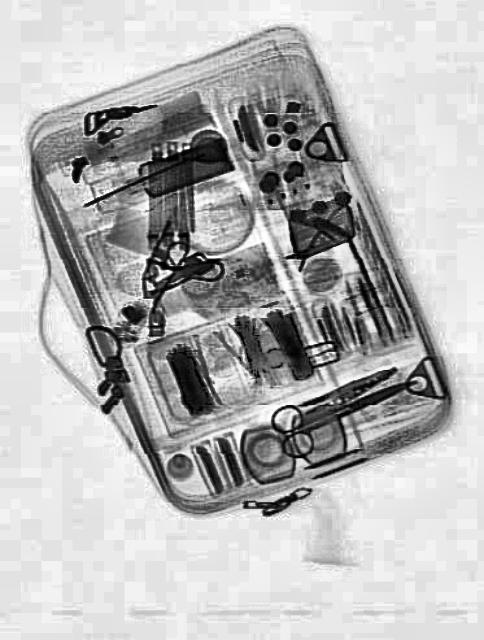Scissors: (268, 352, 423, 463)
